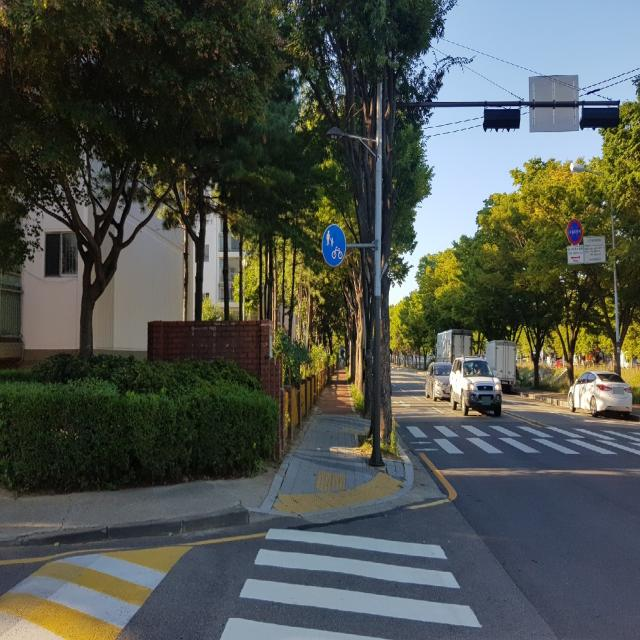횡단보도: (218, 526, 483, 640), (405, 428, 640, 457)
